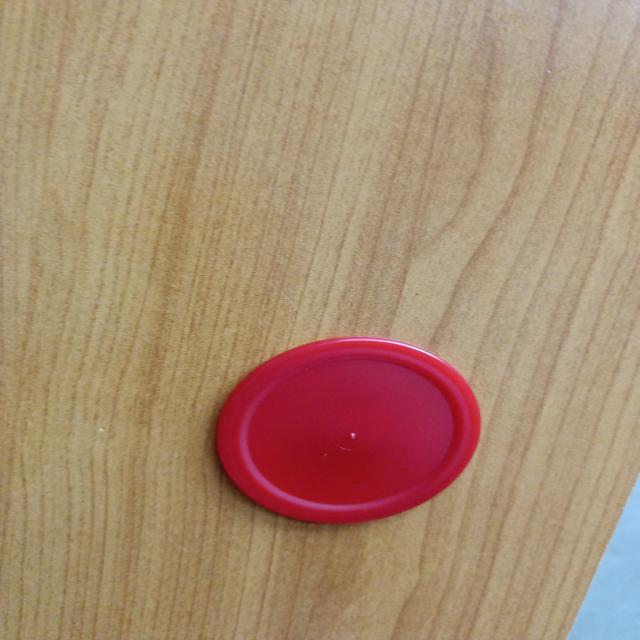chip: (210, 333, 480, 527)
